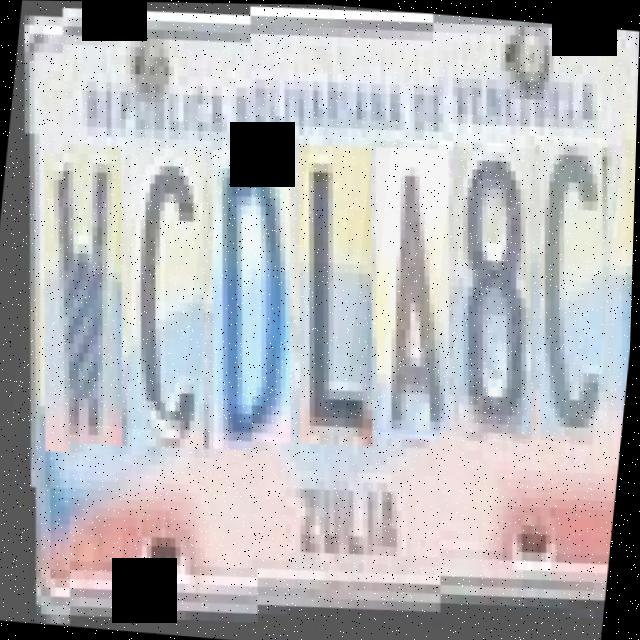8: (427, 140, 550, 439)
A: (346, 138, 469, 435)
C: (100, 126, 224, 433), (508, 136, 622, 442)
D: (182, 129, 310, 437)
L: (268, 133, 392, 441)
W: (13, 122, 142, 429)
